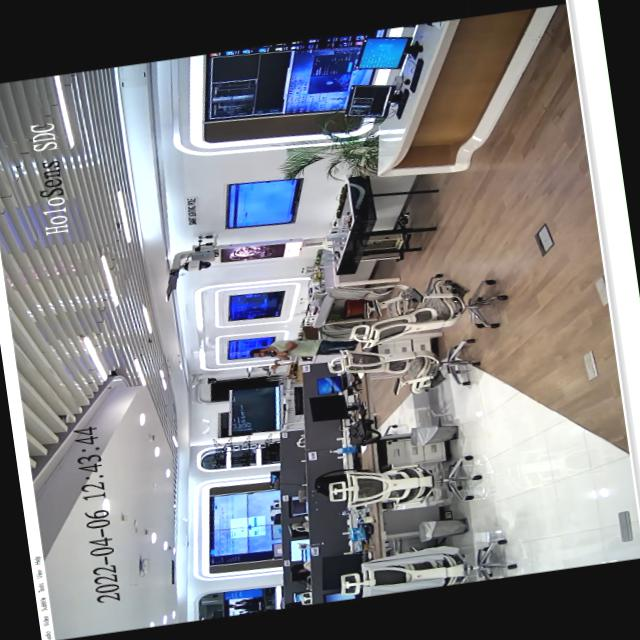long weapon: (261, 342, 287, 362)
